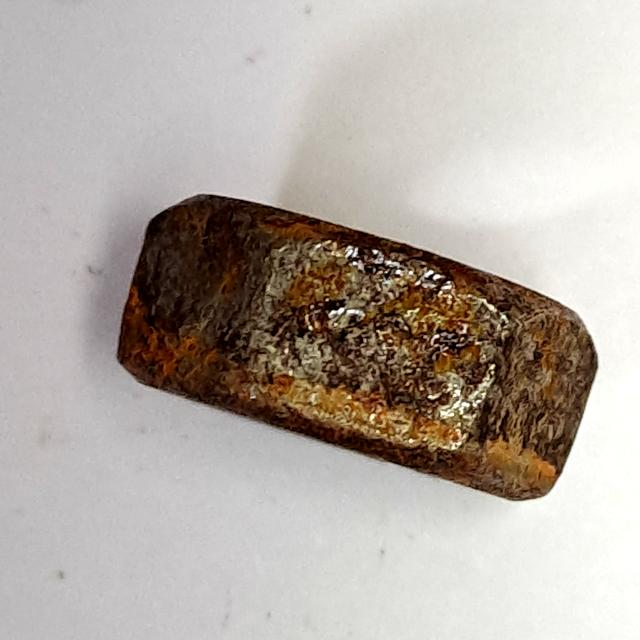Side_Rust: (105, 173, 613, 517)
